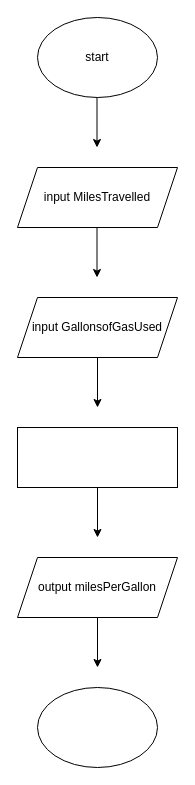
Some shapes in this 195 by 785 pixel diagram are drawn without their labels. Here are the shapes that lost their labels. From the top down, the centre of each, then its label:
At pixel 97 457: "milesPerGallon = MilesTravelled / GallonsofGasUsed".
At pixel 97 727: "end".
